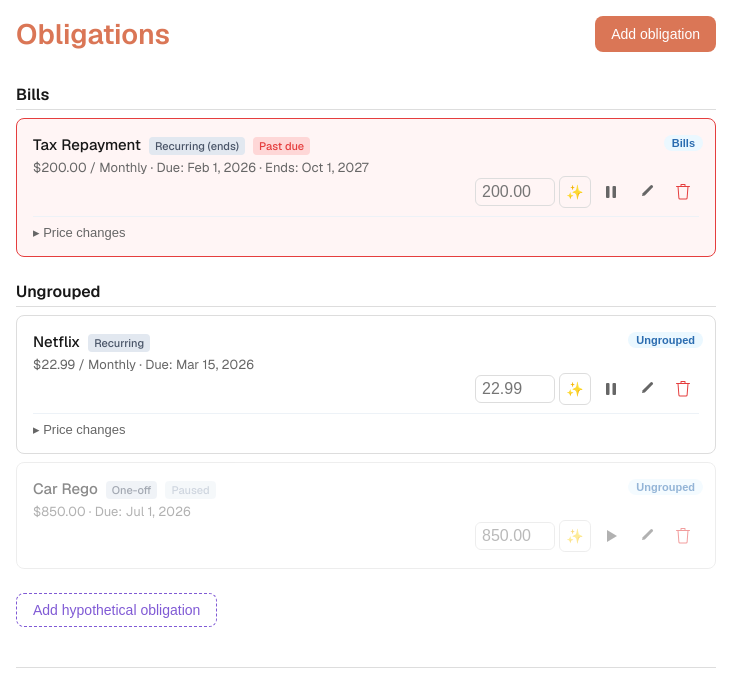
Scenario: ObligationsPage › expands escalation section and shows rules on toggle click
Expected: the text "Netflix" is shown, top-left (33, 332), bottom-right (80, 351)
// Click to expand escalation section for Netflix
Click the button with aria-label "Toggle escalation rules for Netflix": (79, 430) top-left (33, 422), bottom-right (126, 437)
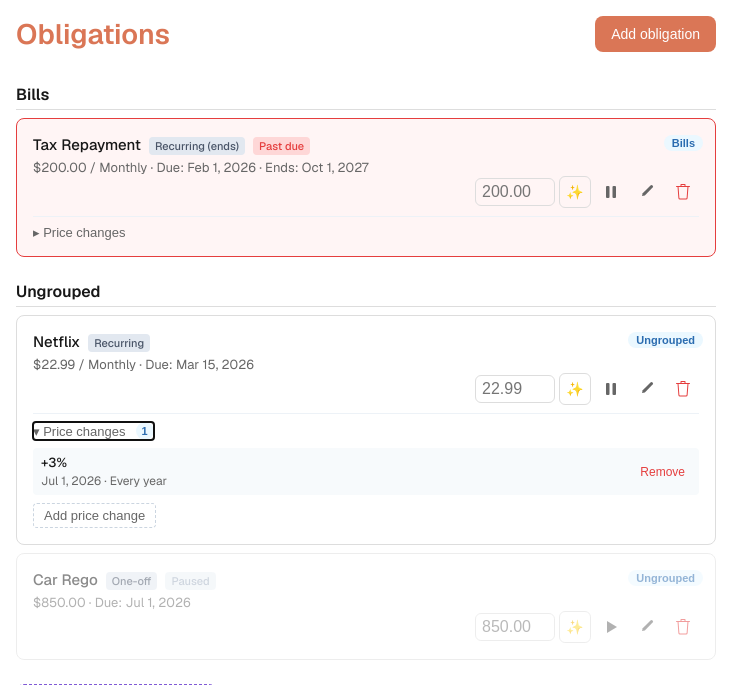
Expected: the list item with test id "escalation-rule-esc-1" is shown, top-left (33, 448), bottom-right (699, 495)
Expected: the text "+3%" is shown, top-left (41, 454), bottom-right (67, 471)
Expected: the text "Jul 1, 2026 · Every year" is shown, top-left (41, 473), bottom-right (167, 489)
